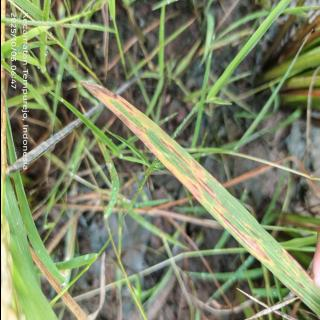Hawar-Daun: (103, 101, 204, 201), (159, 137, 216, 200), (212, 208, 272, 264), (80, 82, 146, 130)
